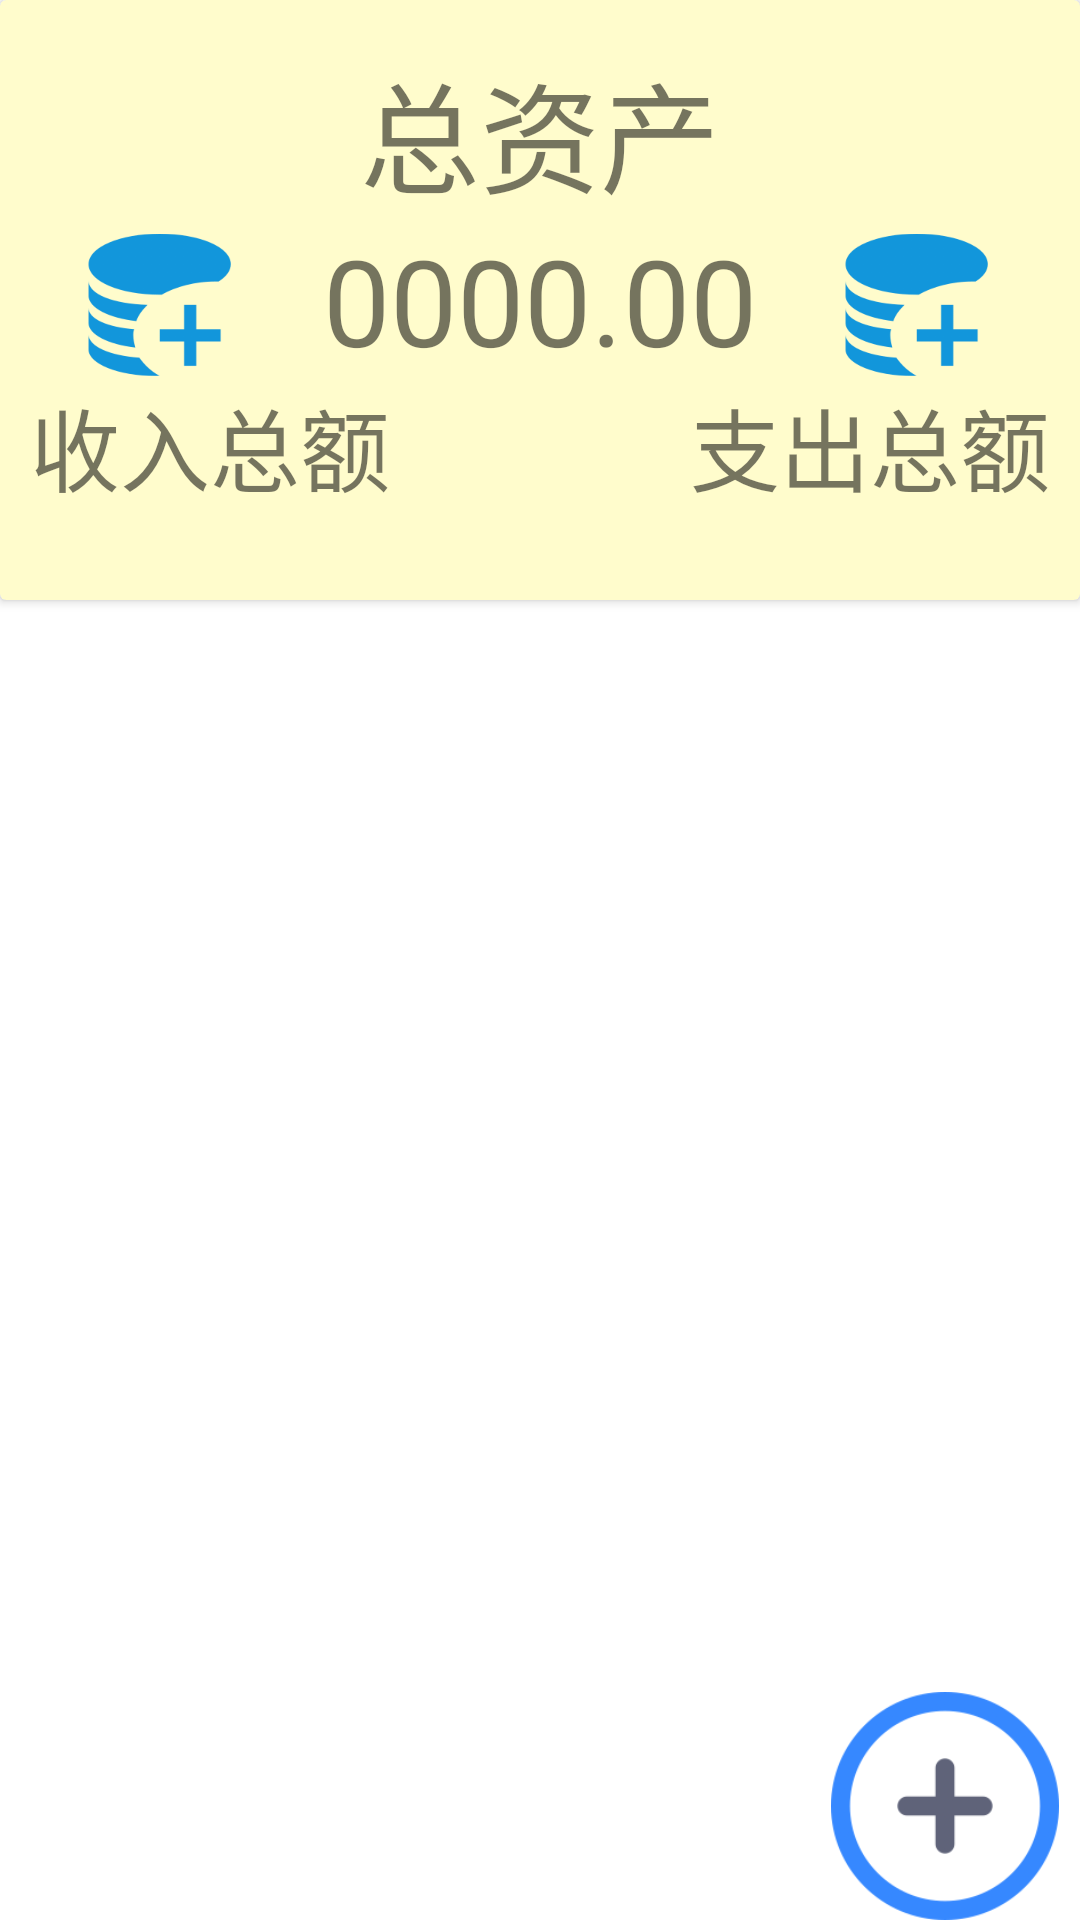

Icons on this 1080*1920 Android screen, each with its box as (x1, y1, x2, y2):
tianjia: (831, 1692, 1059, 1920)
